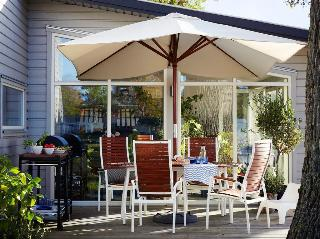armchair: (206, 139, 272, 233), (131, 140, 187, 233)
